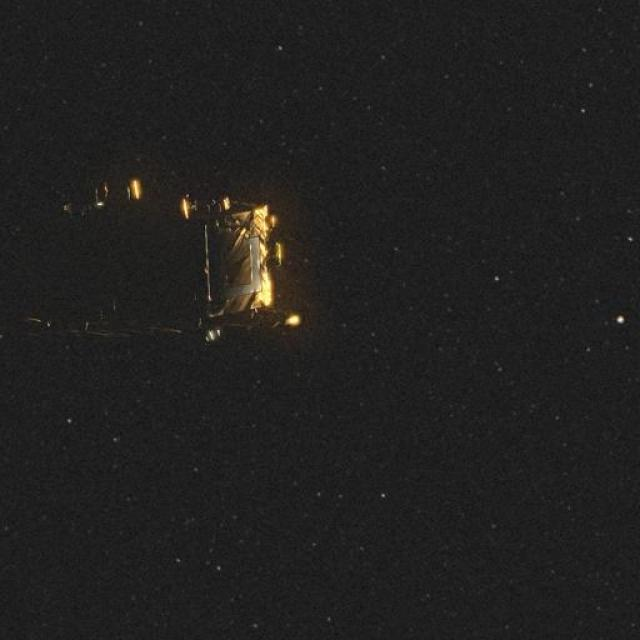lisa_pathfinder: (0, 154, 321, 370)
